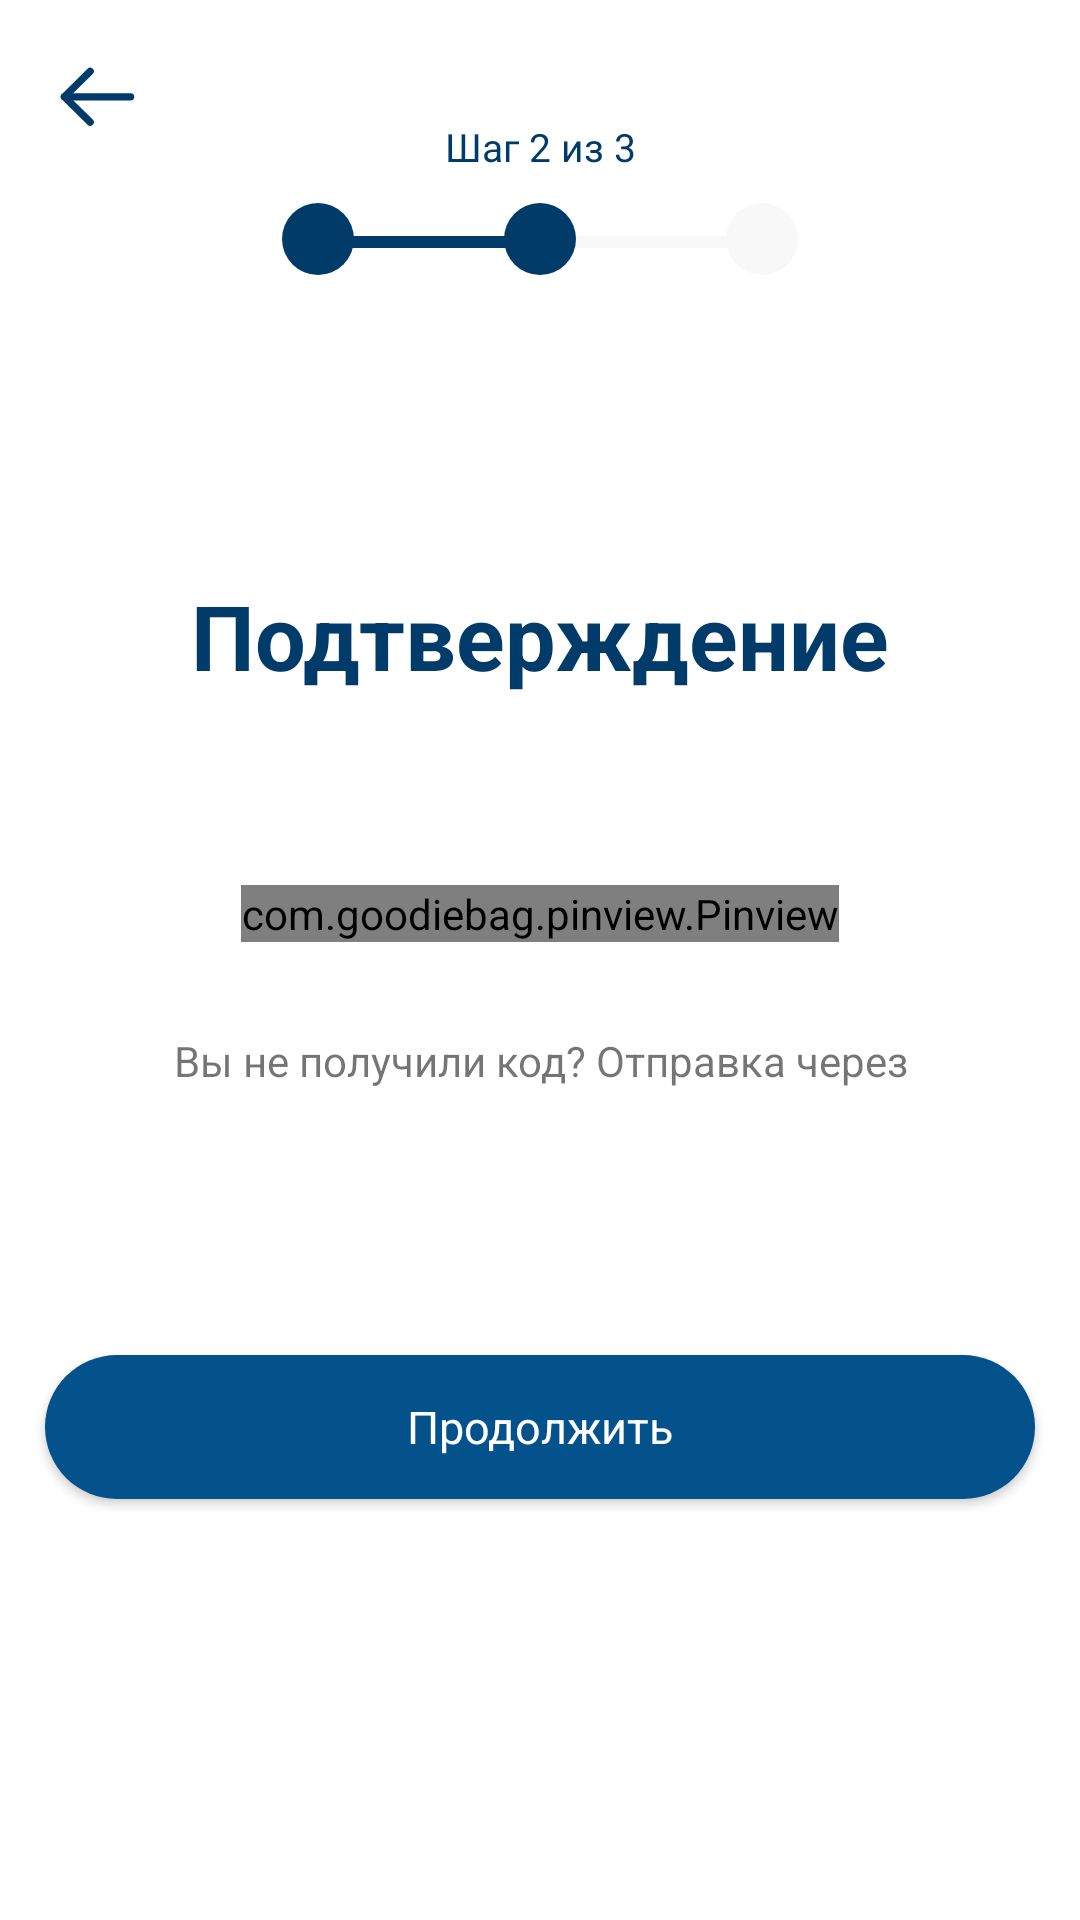

Named icons in this screenshot (1080x1920) and their bounding boxes, (x1, y1, x2, y2):
back cursor: (60, 67, 135, 126)
progress circle: (282, 203, 576, 275)
